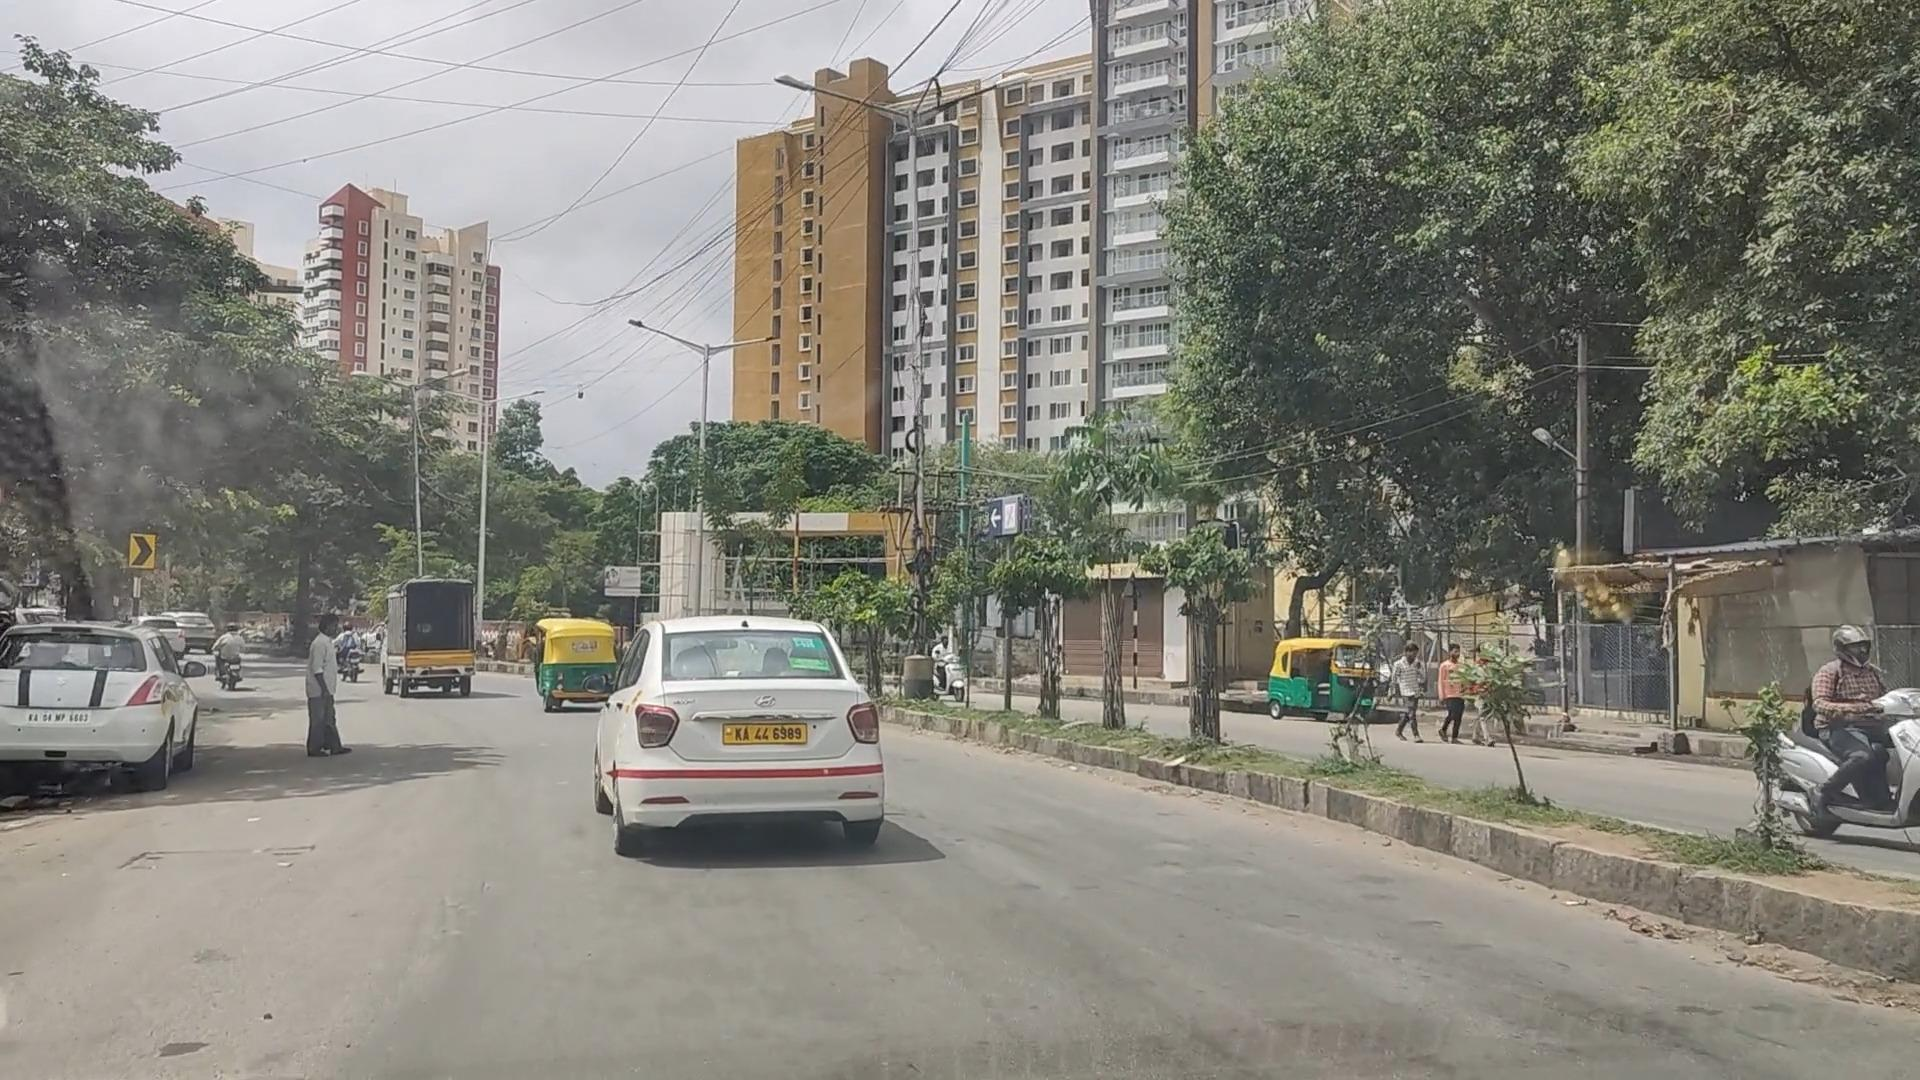LMV: (568, 607, 876, 855)
RoadDamages: (1411, 978, 1834, 1080), (111, 844, 339, 944)
